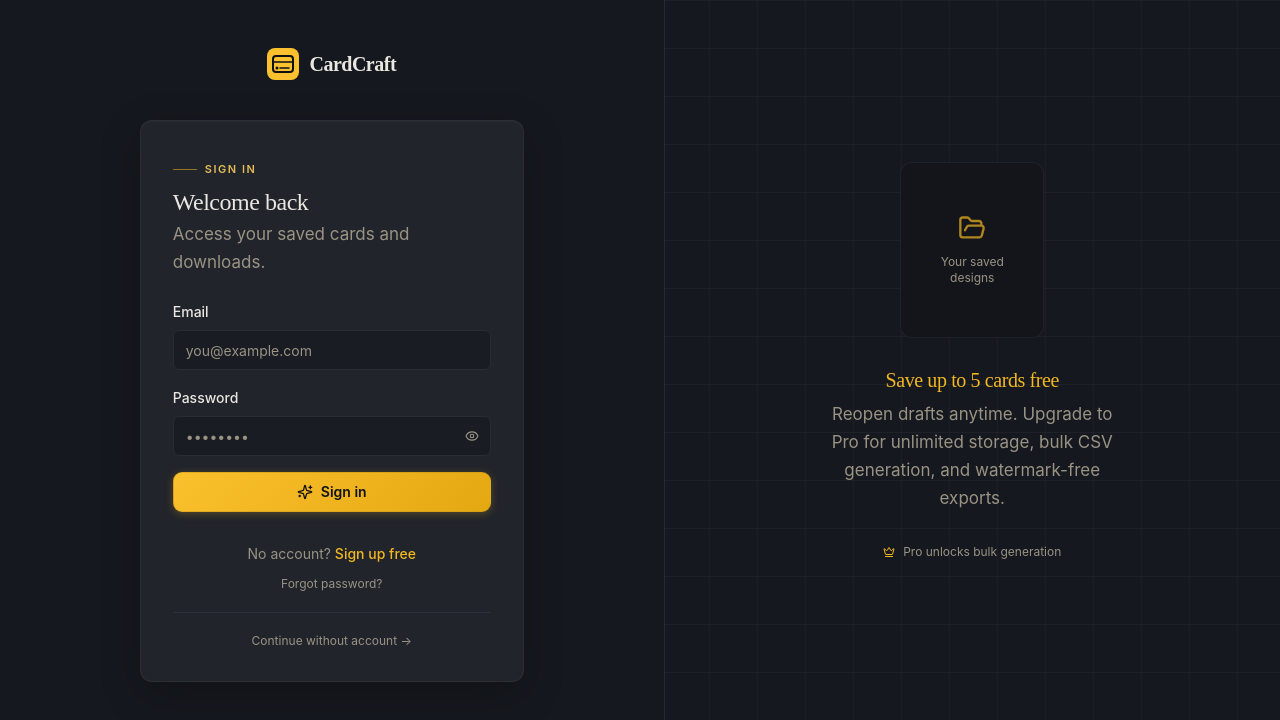
it: AuthPage › toggles between login and register modes
This screenshot has width=1280, height=720.
Expected: the heading "Welcome back" is shown, [173,189,308,215]
Expected: the field labelled "Full Name" is not shown
Click the button with test id "button-toggle-mode" at (375, 554), box [335,544,416,564]
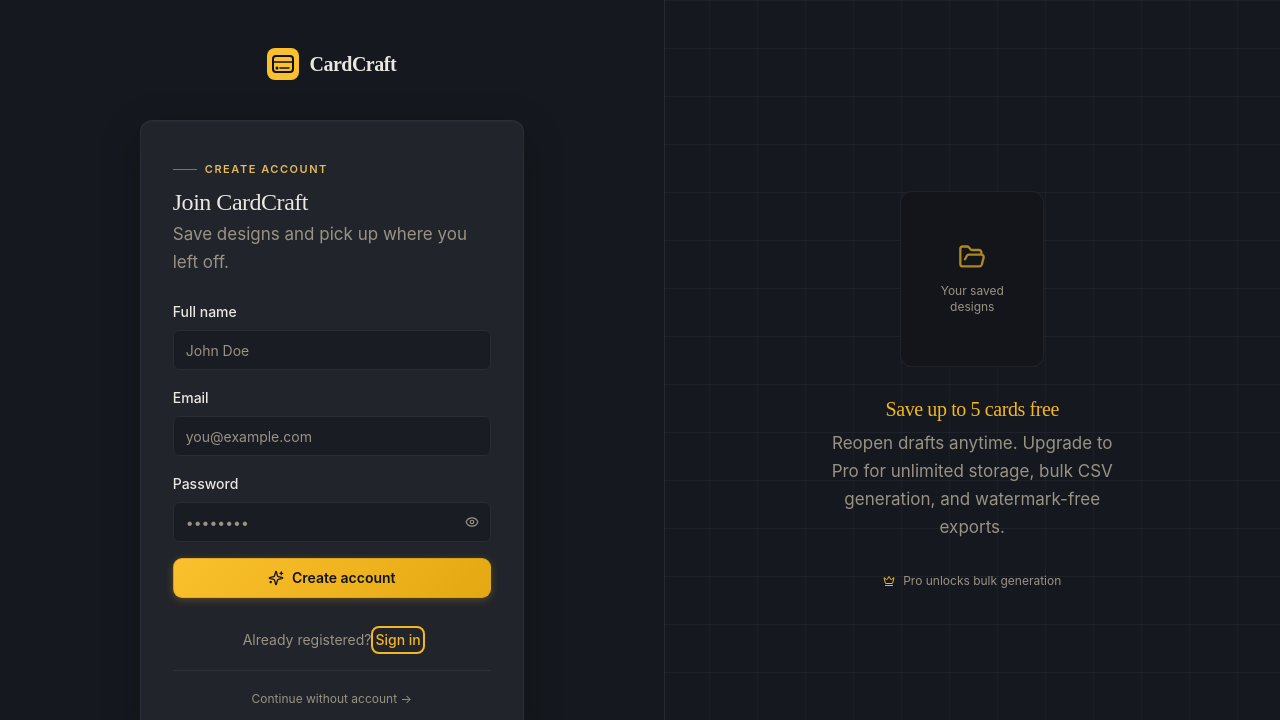
Result: the button "Create account" is shown at [173,558,491,598]
Result: the field labelled "Full name" is shown at [173,330,491,370]
